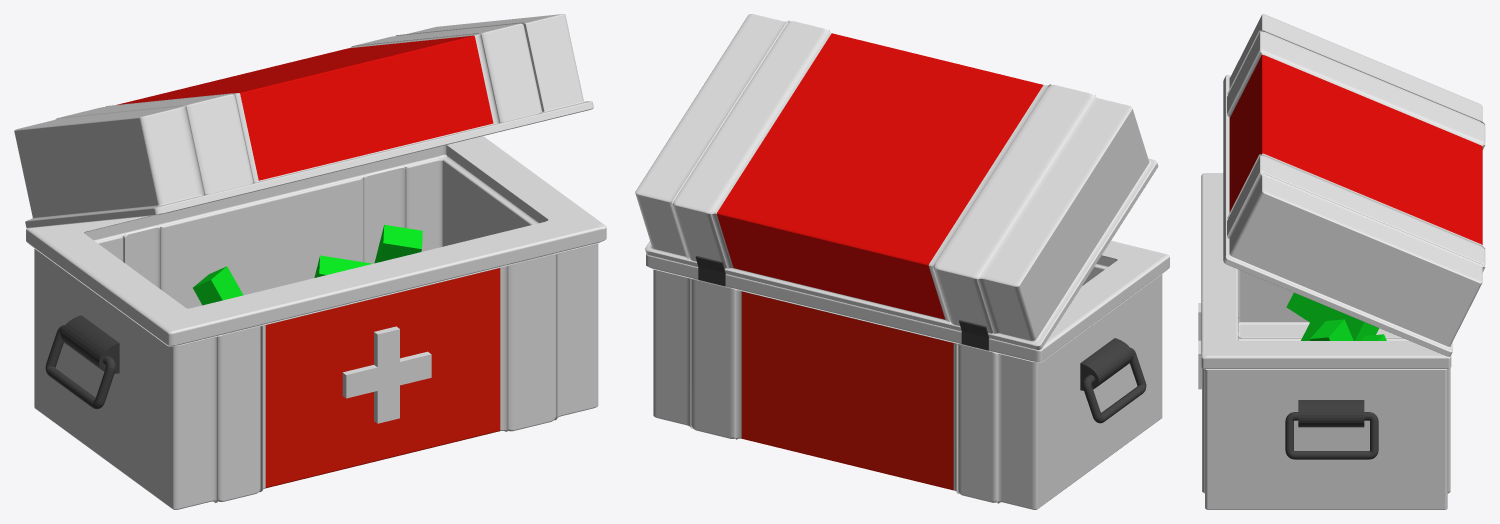
File: HealthBox.fbx
The picture shows the model from 3 angles, left to right: view 1: azimuth 30°, elevation 25°; view 2: azimuth 150°, elevation 25°; view 3: azimuth 270°, elevation 25°; orthographic projection. The views are drawn at different scales.
Parts seen in each view (by area): view 1: Cube, Cube.002, Cylinder.001; view 2: Cube.002, Cube, Cylinder.001, Cube.003, Cube.004; view 3: Cube.002, Cube, Cylinder.001.
Boxes of the visible parts, <box> form: Cube: <box>26,136,606,509</box>; Cube.002: <box>14,14,593,228</box>; Cylinder.001: <box>45,225,431,423</box>; Cube.002: <box>635,14,1158,349</box>; Cube: <box>646,241,1169,509</box>; Cylinder.001: <box>1080,338,1146,423</box>; Cube.003: <box>959,320,989,350</box>; Cube.004: <box>695,255,725,286</box>; Cube.002: <box>1223,14,1485,356</box>; Cube: <box>1201,173,1451,509</box>; Cylinder.001: <box>1198,293,1386,459</box>.
Bounding box in the file's own units: 663 × 491 × 396.
